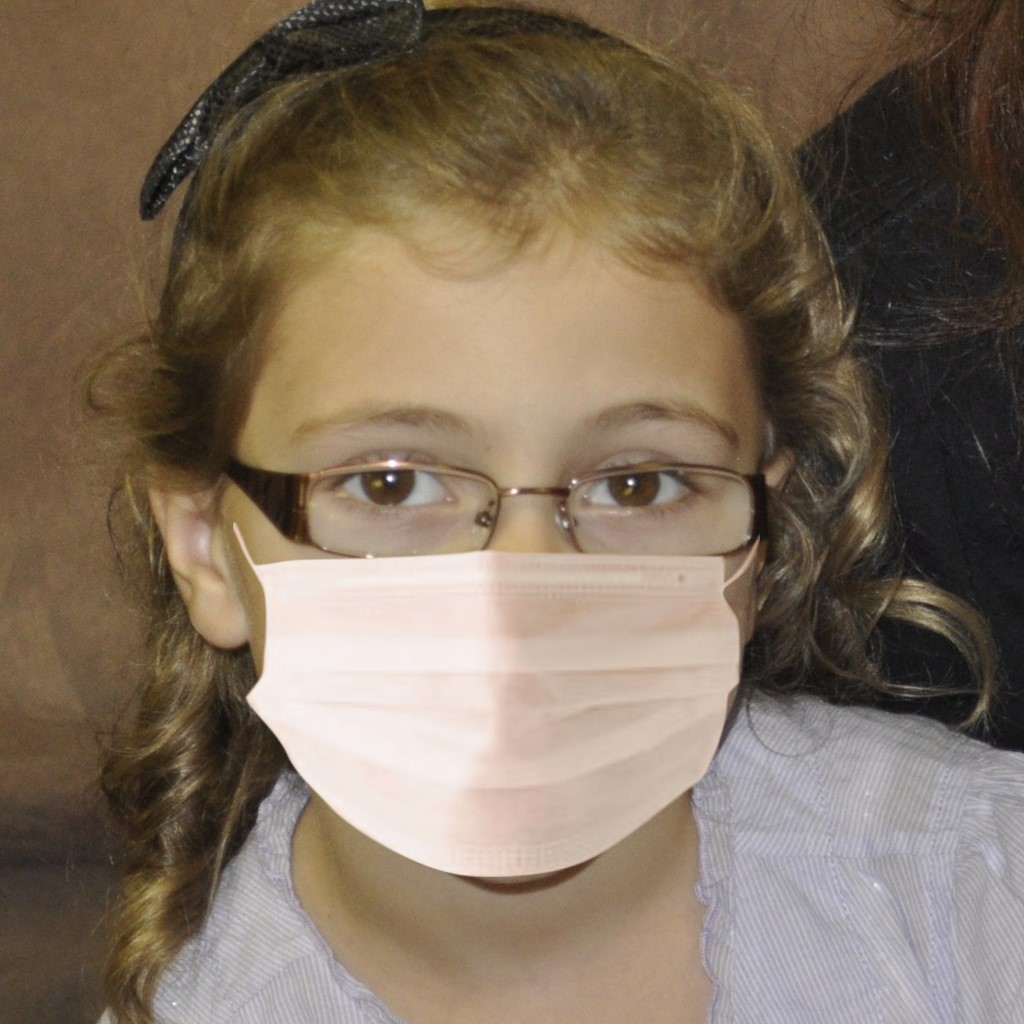con_mascara: (168, 102, 775, 908)
